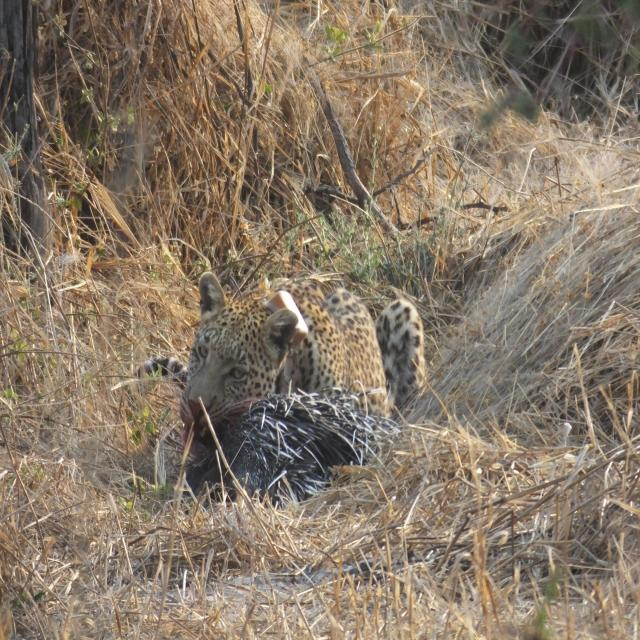Leopard: (130, 268, 435, 457)
